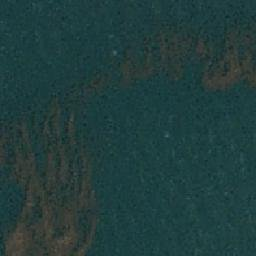debris: (18, 115, 75, 176), (26, 179, 91, 224), (199, 40, 256, 88), (32, 223, 95, 249), (156, 34, 180, 79), (114, 56, 157, 79), (1, 223, 31, 246), (84, 69, 114, 90)
